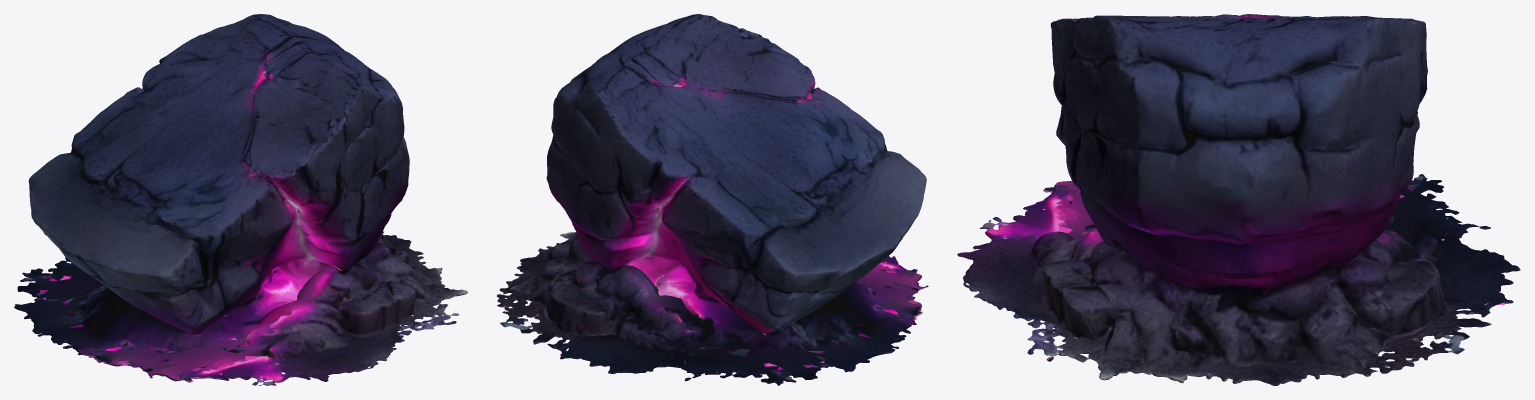
The model's file is shore-stone-1-generated-2026-05-17T19-52-50-116Z.medium.glb.
The picture shows the model from 3 angles, left to right: view 1: azimuth 30°, elevation 25°; view 2: azimuth 150°, elevation 25°; view 3: azimuth 270°, elevation 25°; orthographic projection. The views are drawn at different scales.
Visible parts, largest first — view 1: temp_mesh.ply; view 2: temp_mesh.ply; view 3: temp_mesh.ply.
Boxes of the visible parts, <box> form: temp_mesh.ply: <box>14,14,467,385</box>; temp_mesh.ply: <box>497,14,928,385</box>; temp_mesh.ply: <box>957,14,1520,385</box>.
Bounding box in the file's own units: 1.98 × 1.15 × 1.97.
1 material, 1 textured.
